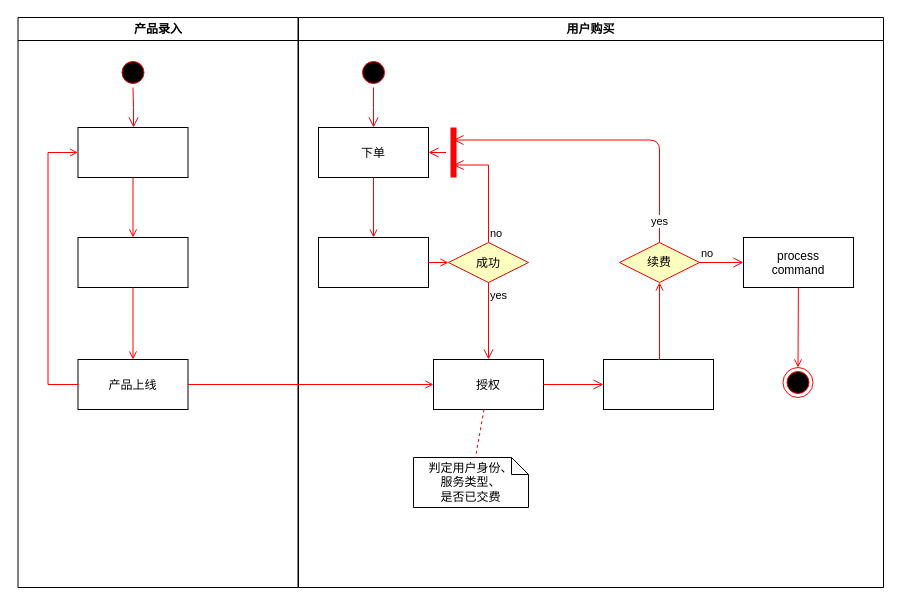
This 901x605 diagram has some shape labels left out. Each missing label, with the centre of its shape:
"产品定价" goes at point 132,152.
"产品登记" goes at point 132,262.
"支付" goes at point 373,262.
"逾期" goes at point 658,384.
